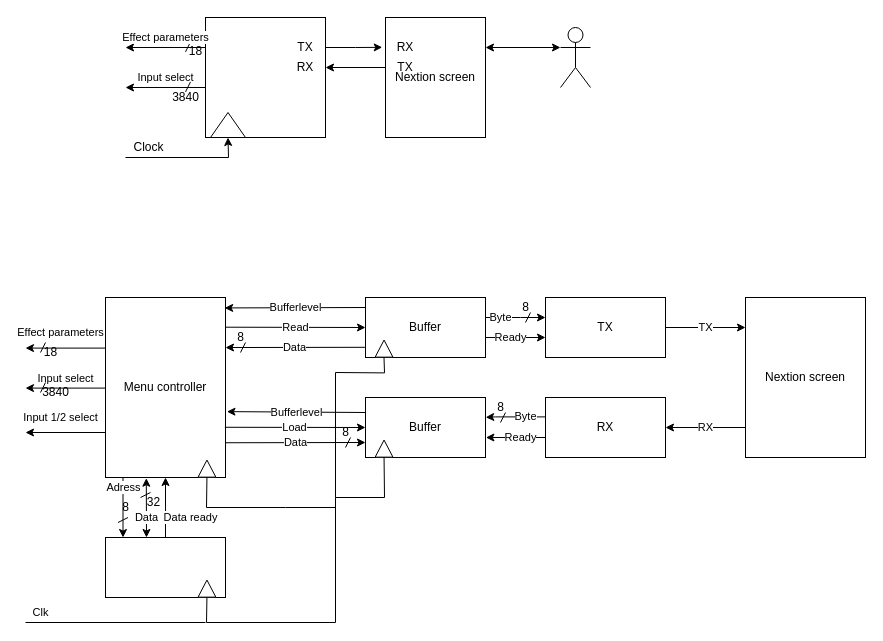
Some shapes in this 883 by 641 pixel diagram are drawn without their labels. Here are the shapes that lost their labels. From the top down, the box of each, then its label:
(204, 16, 326, 138): Controller
(560, 26, 590, 88): User
(104, 536, 226, 598): Memory
